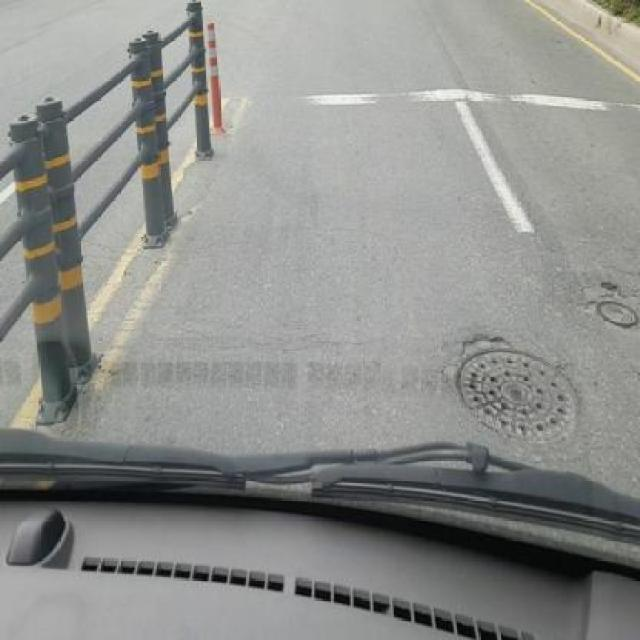Manhole: (453, 332, 582, 443)
